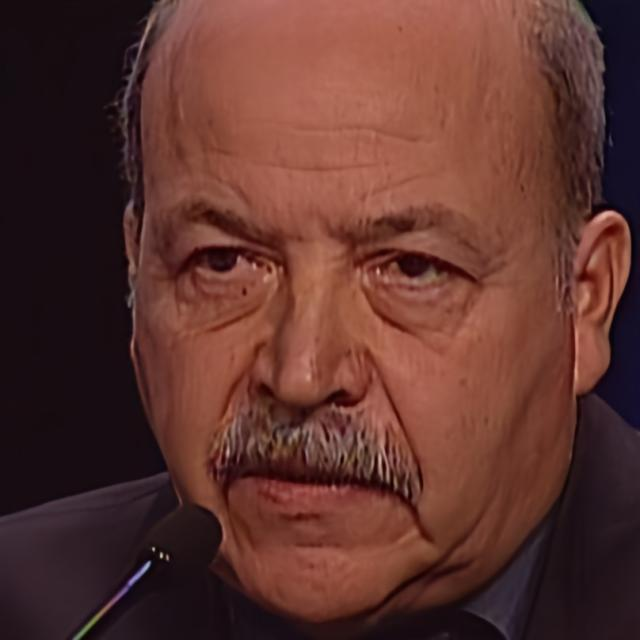anger: (138, 12, 572, 610)
